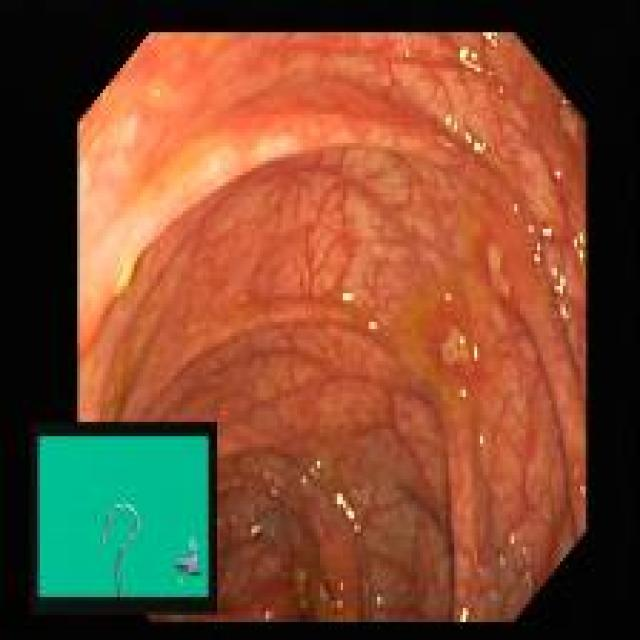ulcerative-colitis: (79, 33, 586, 622)
